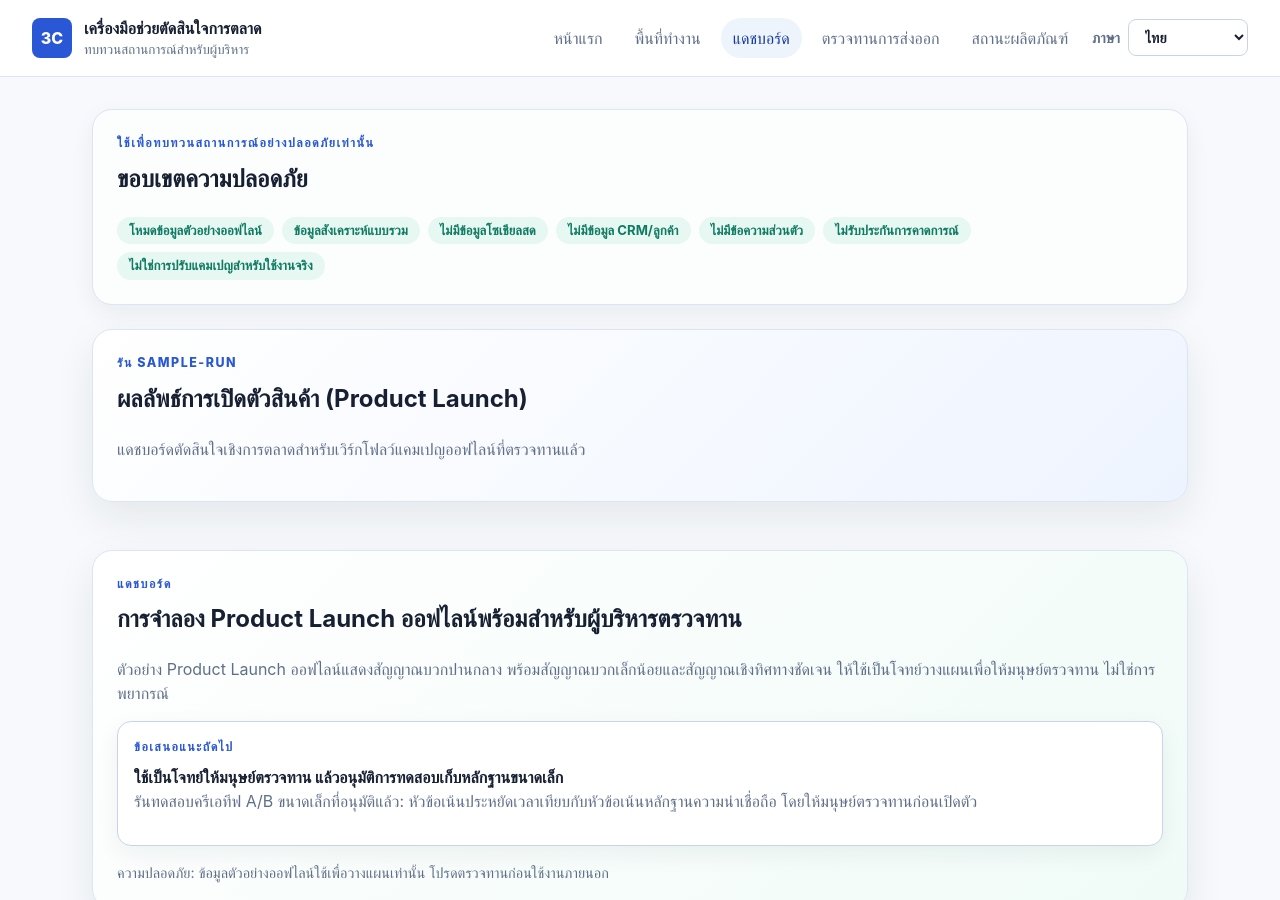
Test case: M18 Thai-first internationalization › renders Thai and English labels for /runs/sample-run
The width and height of the screenshot is (1280, 900).
expect the heading "ผลลัพธ์การเปิดตัวสินค้า (Product Launch)" is shown: met, box x1=117 y1=384 x2=528 y2=413
Step 1. Select "English" in the dropdown labelled "ภาษา" → [1188, 38], box x1=1128 y1=20 x2=1248 y2=56
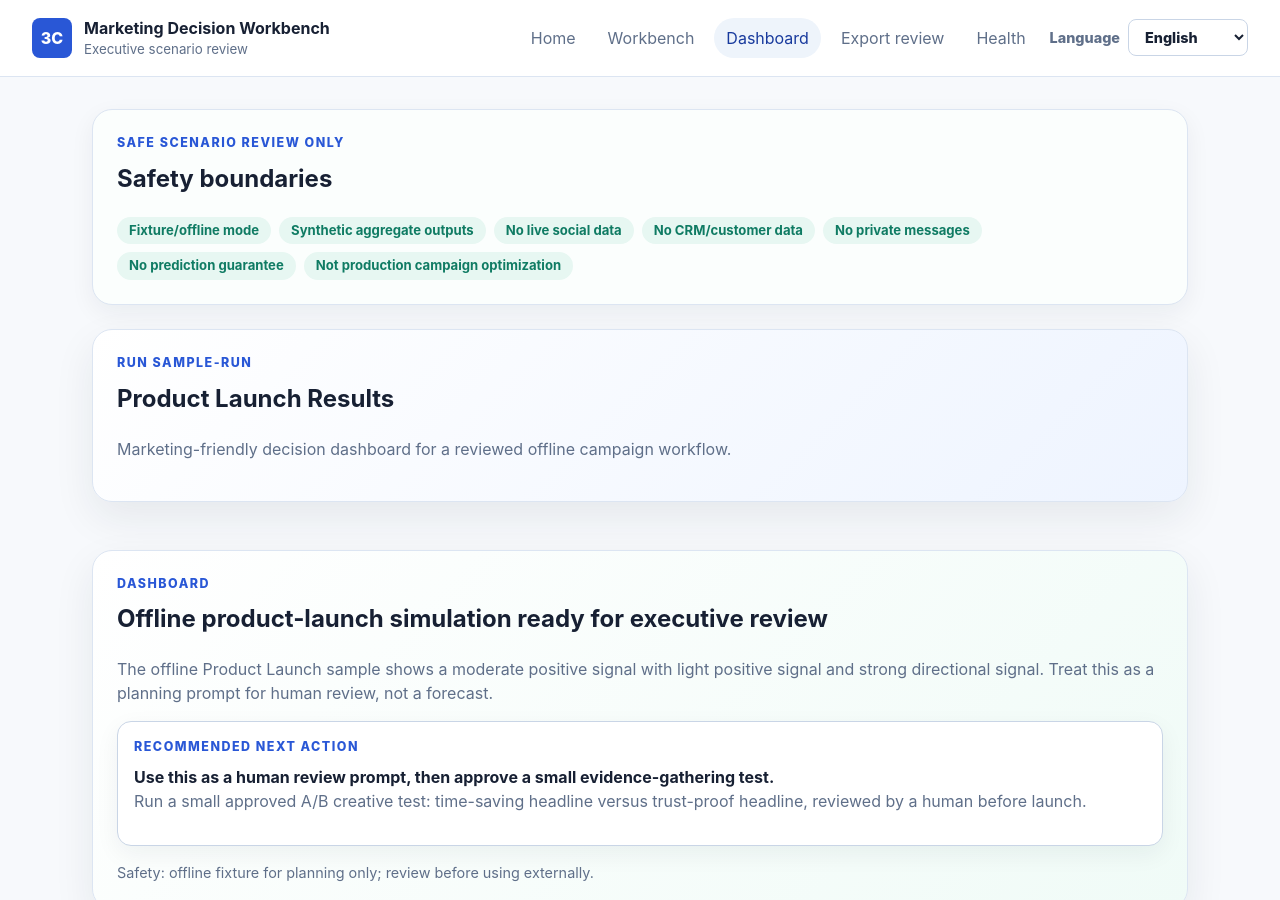
expect the heading "Product Launch Results" is shown: met, box x1=117 y1=384 x2=394 y2=413
